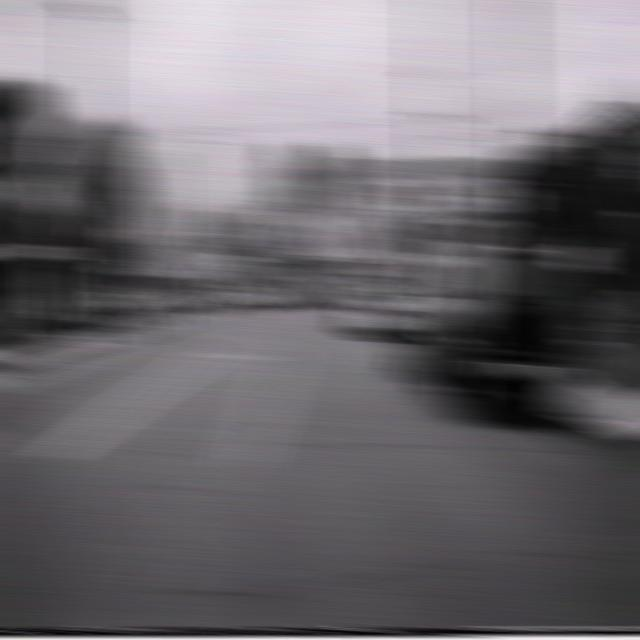pedestrianCrossing: (393, 203, 433, 240)
